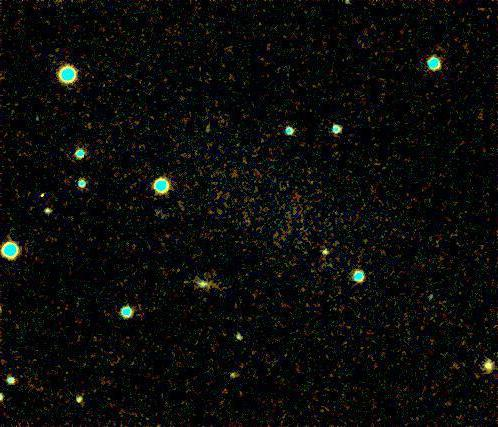star: (30, 178, 60, 208)
